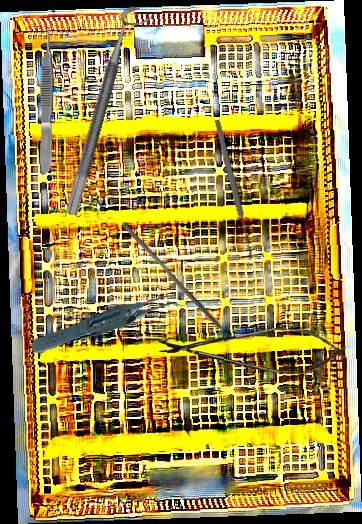Fixation Ring: (63, 3, 156, 222)
Micro Scissor: (157, 326, 349, 375)
Pusher: (117, 220, 227, 331)
Surgical Spoon: (212, 119, 256, 259)
Tissue Forceps: (28, 294, 188, 355), (37, 26, 58, 175)
